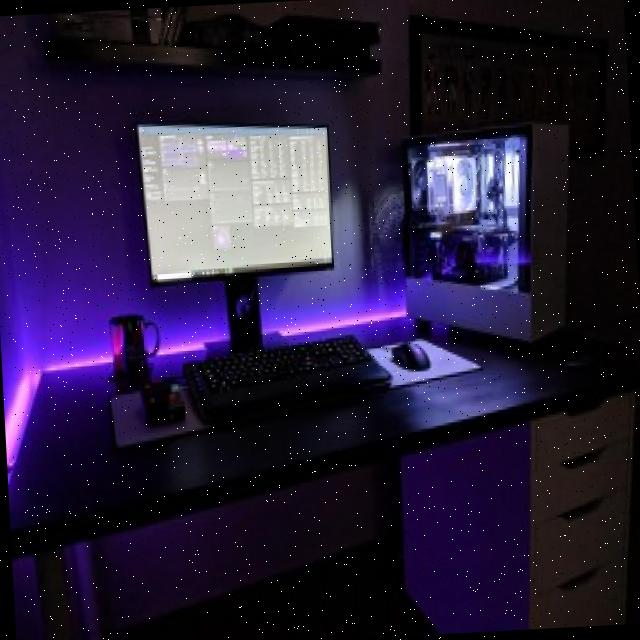Computer: (394, 114, 586, 356)
Monitor: (132, 100, 346, 286)
